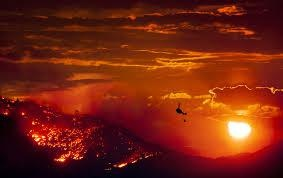fire: (26, 117, 93, 163)
